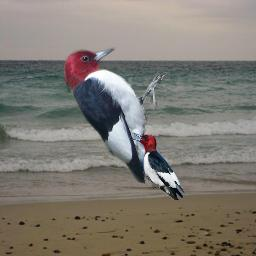Woodpecker: (63, 47, 170, 188), (129, 131, 186, 200)
